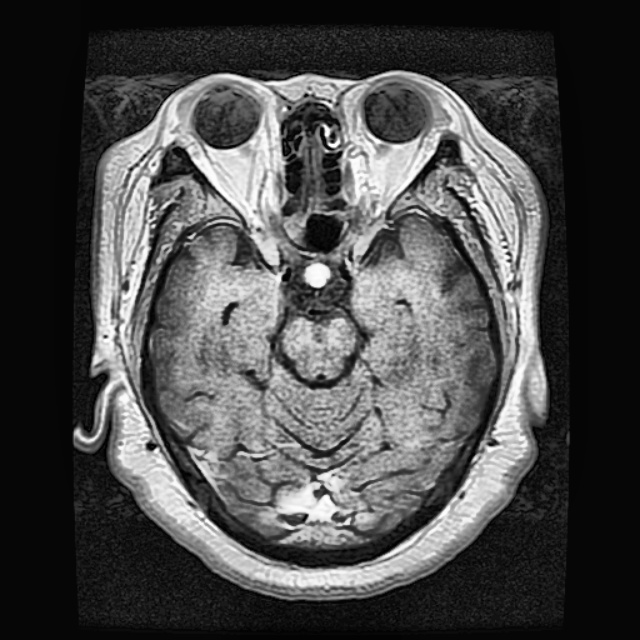Pituitary: (302, 263, 332, 287)
